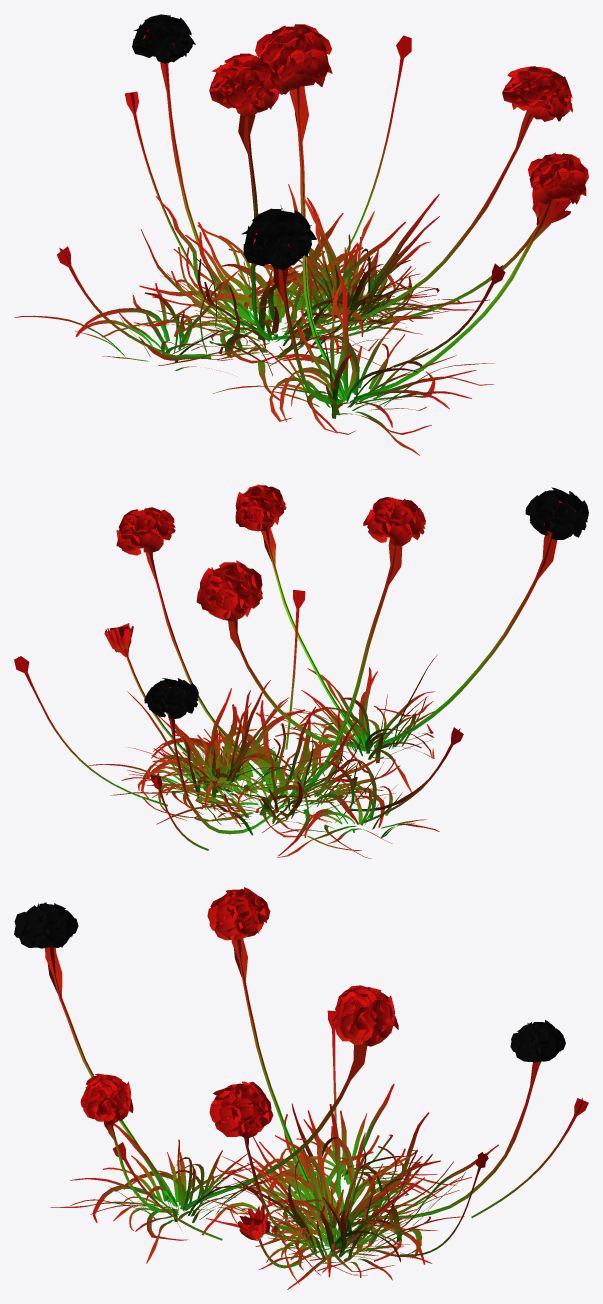
Rendered from Var2_LOD0.fbx.
The picture shows the model from 3 angles, top to bottom: view 1: azimuth 30°, elevation 25°; view 2: azimuth 150°, elevation 25°; view 3: azimuth 270°, elevation 25°; orthographic projection. The views are drawn at different scales.
Visible parts, largest first — view 1: _x22i_Var2_LOD0; view 2: _x22i_Var2_LOD0; view 3: _x22i_Var2_LOD0.
Part boxes in pixels (<box>): _x22i_Var2_LOD0: <box>14,14,588,455</box>; _x22i_Var2_LOD0: <box>14,484,588,858</box>; _x22i_Var2_LOD0: <box>14,887,588,1289</box>.
Bounding box in the file's own units: 31.5 × 22.38 × 38.22.
